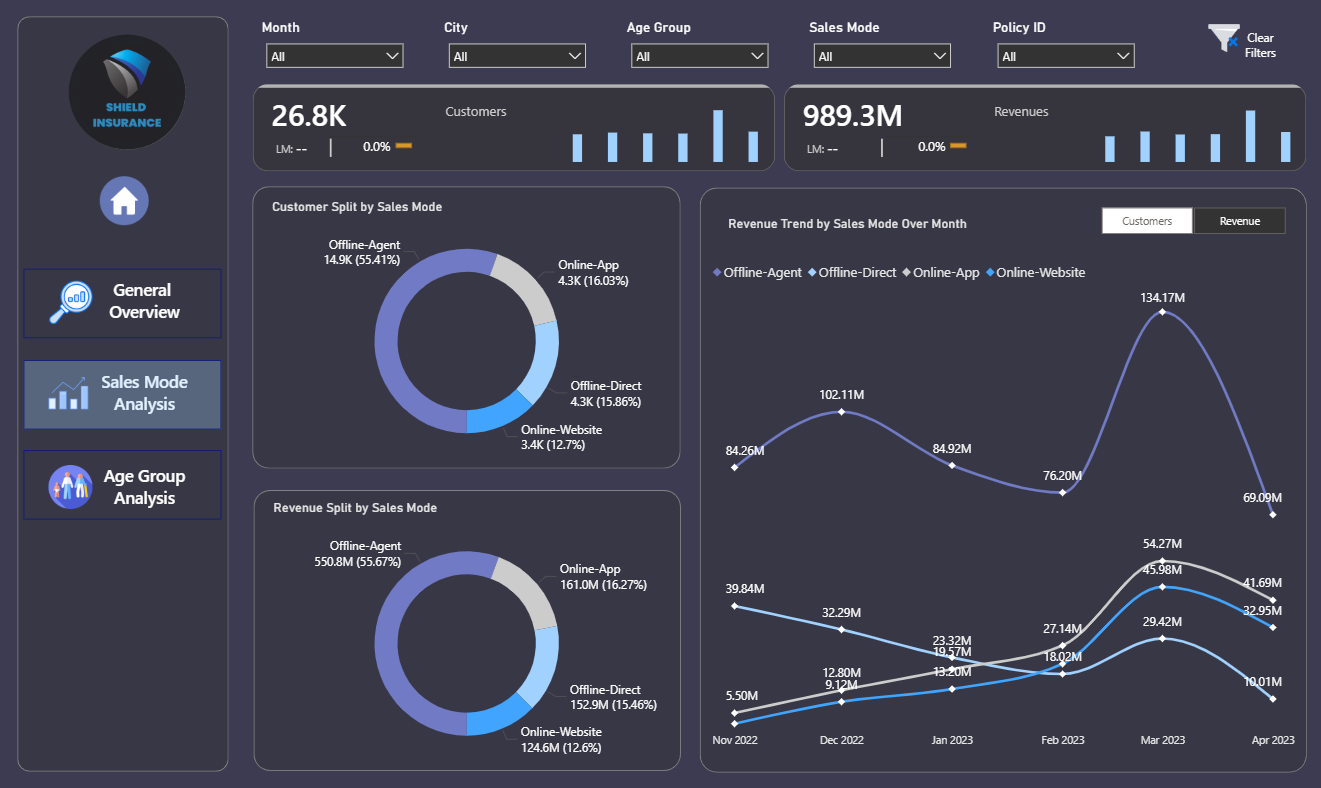

What the dashboard file says about the page in this screenshot:
{"tool":"powerbi","page":{"name":"Sales Mode Analysis","canvas":[1500,900],"ordinal":2},"visuals":[{"type":"shape","box":[24.1,24.1,238.3,852],"z":0},{"type":"cardVisual","fields":{"Data":["Key Measures.Total Customers","Key Measures.Total Revenue"]},"box":[285.5,95.4,1200,108.9],"z":0,"group":"g1"},{"type":"shape","box":[793.8,216.9,684.6,660],"z":0,"group":"g5"},{"type":"image","box":[60,34.1,174.4,149.9],"z":1000},{"type":"group","id":"g1","title":"Group 1","box":[285.5,95.4,1200,108.9],"z":1000,"group":"g2"},{"type":"textbox","box":[502.7,115,92,45.2],"z":1000,"group":"g1"},{"type":"shape","box":[289.3,215.4,483,318.5],"z":1000,"group":"g3"},{"type":"slicer","title":"Month","fields":{"Values":["dim_date.mmm_yy"]},"box":[294.3,27,175,60],"z":2000},{"type":"textbox","box":[1121,115,90.5,45.2],"z":2000,"group":"g1"},{"type":"lineChart","fields":{"Y":["Key Measures.Total Revenue"],"Category":["dim_date.date.Variation.Date Hierarchy.Year","dim_date.date.Variation.Date Hierarchy.Month"],"Series":["fact_premiums.sales_mode"]},"box":[802.5,291,668.2,567],"z":2000,"group":"g5"},{"type":"slicer","title":"Policy ID","fields":{"Values":["fact_premiums.policy_id"]},"box":[1118.7,27.3,174.4,60],"z":3000},{"type":"slicer","title":"City","fields":{"Values":["dim_customer.city"]},"box":[500.4,27,175,60],"z":4000},{"type":"shape","box":[290.3,558.5,482,316.9],"z":4000,"group":"g4"},{"type":"slicer","title":"Age Group","fields":{"Values":["dim_customer.Age Group"]},"box":[706.5,27,175,60],"z":5000},{"type":"slicer","title":"Sales Mode","fields":{"Values":["fact_premiums.sales_mode"]},"box":[912.6,27,175,60],"z":6000},{"type":"textbox","box":[313.4,564.7,292.3,35.4],"z":6000,"group":"g4"},{"type":"group","id":"g2","title":"Group 6","box":[285.5,95.4,1200,108.9],"z":7000},{"type":"slicer","fields":{"Values":["Trend Parameter.Trend Parameter"]},"box":[1220.3,232.2,257.6,43.7],"z":7000,"group":"g5"},{"type":"group","id":"g3","title":"Group 2","box":[289.3,215.4,483,318.5],"z":8000},{"type":"textbox","box":[312.2,223.8,293.1,35.4],"z":8000,"group":"g3"},{"type":"group","id":"g4","title":"Group 3","box":[290.3,558.5,482,316.9],"z":9000},{"type":"group","id":"g5","title":"Group 4","box":[793.8,216.9,684.6,660],"z":10000},{"type":"card","fields":{"Values":["Key Measures.Dynamic Sales Mode Title"]},"box":[801.3,238,324.2,42.2],"z":10000,"group":"g5"},{"type":"clusteredColumnChart","fields":{"Category":["dim_date.date.Variation.Date Hierarchy.Year","dim_date.date.Variation.Date Hierarchy.Month"],"Y":["Key Measures.Total Customers"]},"box":[645.4,108.6,220.2,86],"z":11000},{"type":"clusteredColumnChart","fields":{"Category":["dim_date.date.Variation.Date Hierarchy.Year","dim_date.date.Variation.Date Hierarchy.Month"],"Y":["Key Measures.Total Revenue"]},"box":[1245.6,108.6,220.2,86],"z":12000},{"type":"actionButton","box":[1390.8,24.6,69.2,64.6],"z":13000},{"type":"tableEx","fields":{"Values":["Key Measures.Growth % TC"]},"box":[367.9,128,125,60],"z":13000,"group":"g2"},{"type":"image","box":[1358.5,24.6,52.3,47.7],"z":14000},{"type":"shape","box":[328.4,162.1,100.8,20.4],"z":14000,"group":"g2"},{"type":"tableEx","fields":{"Values":["Key Measures.Growth % TR"]},"box":[997.5,128.1,125.4,60],"z":15000,"group":"g2"},{"type":"group","id":"g6","title":"Group 7","box":[58.8,314.7,188.7,279.6],"z":15000},{"type":"textbox","box":[87.5,314.7,160,70],"z":15000,"group":"g6"},{"type":"shape","box":[31.7,308.7,223.2,78.4],"z":16000},{"type":"textbox","box":[87.5,419.5,160,70],"z":16000,"group":"g6"},{"type":"donutChart","fields":{"Y":["Key Measures.Total Customers"],"Category":["fact_premiums.sales_mode"]},"box":[292.4,247.7,478.5,284.6],"z":17000,"group":"g3"},{"type":"shape","box":[31.7,411.2,223.2,78.4],"z":17000},{"type":"textbox","box":[87.5,524.3,160,70],"z":17000,"group":"g6"},{"type":"image","box":[58.8,322.2,50,50],"z":18000,"group":"g6"},{"type":"shape","box":[31.7,513.8,223.2,78.4],"z":18000},{"type":"donutChart","fields":{"Y":["Key Measures.Total Revenue"],"Category":["fact_premiums.sales_mode"]},"box":[291.8,589.3,478.5,284.6],"z":18000,"group":"g4"},{"type":"shape","box":[949.8,162.1,100.8,20.4],"z":19000,"group":"g2"},{"type":"image","box":[117.6,205,55,55],"z":19000},{"type":"image","box":[58.8,530.4,49.8,49.8],"z":19000,"group":"g6"},{"type":"image","box":[58.8,424.8,45,50],"z":20000,"group":"g6"}]}

Visuals, with their boxes in screenshot pixels (x1, y1, x2, y2), scaled from the page's 1500x900 canvas onto the 1321x788 screenshot:
shape: 21 21 231 767
cardVisual - Key Measures.Total Customers x Key Measures.Total Revenue: 251 84 1308 179
shape: 699 190 1302 768
image: 53 30 206 161
"Group 1" group: 251 84 1308 179
textbox: 443 101 524 140
shape: 255 189 680 467
"Month" slicer: 259 24 413 76
textbox: 987 101 1067 140
lineChart - Key Measures.Total Revenue x dim_date.date.Variation.Date Hierarchy.Year: 707 255 1295 751
"Policy ID" slicer: 985 24 1139 76
"City" slicer: 441 24 595 76
shape: 256 489 680 766
"Age Group" slicer: 622 24 776 76
"Sales Mode" slicer: 804 24 958 76
textbox: 276 494 533 525
"Group 6" group: 251 84 1308 179
slicer - Trend Parameter.Trend Parameter: 1075 203 1302 242
"Group 2" group: 255 189 680 467
textbox: 275 196 533 227
"Group 3" group: 256 489 680 766
"Group 4" group: 699 190 1302 768
card - Key Measures.Dynamic Sales Mode Title: 706 208 991 245
clusteredColumnChart - dim_date.date.Variation.Date Hierarchy.Year x dim_date.date.Variation.Date Hierarchy.Month: 568 95 762 170
clusteredColumnChart - dim_date.date.Variation.Date Hierarchy.Year x dim_date.date.Variation.Date Hierarchy.Month: 1097 95 1291 170
actionButton: 1225 22 1286 78
tableEx - Key Measures.Growth % TC: 324 112 434 165
image: 1196 22 1242 63
shape: 289 142 378 160
tableEx - Key Measures.Growth % TR: 878 112 989 165
"Group 7" group: 52 276 218 520
textbox: 77 276 218 337
shape: 28 270 224 339
textbox: 77 367 218 429
donutChart - Key Measures.Total Customers x fact_premiums.sales_mode: 258 217 679 466
shape: 28 360 224 429
textbox: 77 459 218 520
image: 52 282 96 326
shape: 28 450 224 519
donutChart - Key Measures.Total Revenue x fact_premiums.sales_mode: 257 516 678 765
shape: 836 142 925 160
image: 104 179 152 228
image: 52 464 96 508
image: 52 372 91 416
